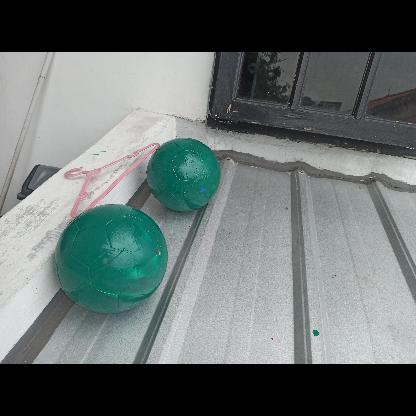green_ball: (54, 202, 167, 314), (147, 136, 222, 212)
